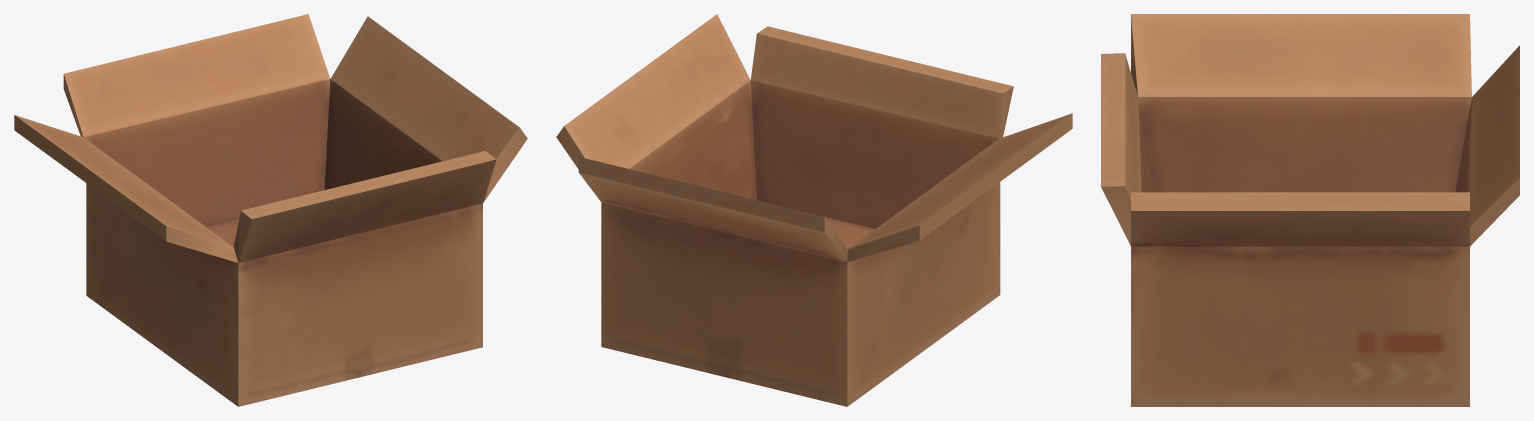
File: Pfb_PaperBox__28.fbx
3 views of the same model, side by side, from view 1: azimuth 30°, elevation 25°; view 2: azimuth 150°, elevation 25°; view 3: azimuth 270°, elevation 25° (orthographic). The views are drawn at different scales.
Parts seen in each view (by area): view 1: Mat_PaperBox_01_01; view 2: Mat_PaperBox_01_01; view 3: Mat_PaperBox_01_01.
Boxes of the visible parts, box(x1,y1,x2,y2) form: Mat_PaperBox_01_01: box(14, 14, 527, 406); Mat_PaperBox_01_01: box(556, 14, 1072, 406); Mat_PaperBox_01_01: box(1101, 14, 1519, 406).
Bounding box in the file's own units: 1.46 × 0.811 × 1.31.
Materials: 1 (1 with a texture image).
